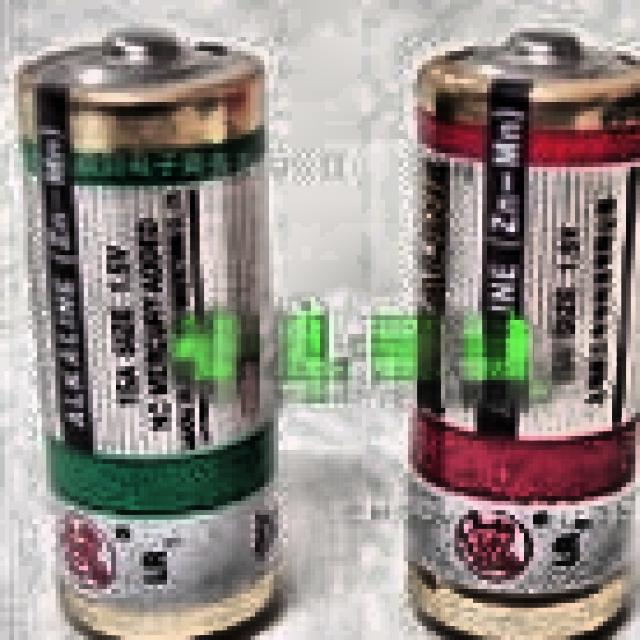Non-Valuable Waste - Batteries: (21, 33, 277, 640), (409, 33, 640, 640)
